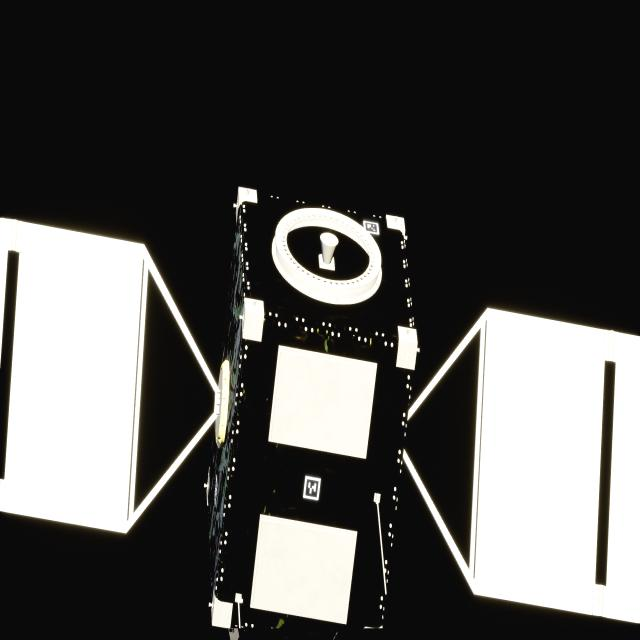satellite: (0, 188, 640, 640)
